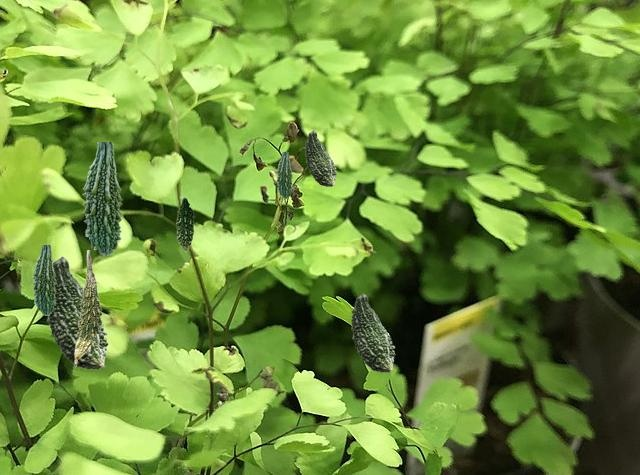ampalaya: (46, 256, 107, 368), (82, 142, 121, 254), (351, 293, 394, 371), (74, 250, 101, 366), (305, 130, 335, 185), (32, 245, 55, 314), (176, 196, 194, 251), (276, 152, 291, 197)
